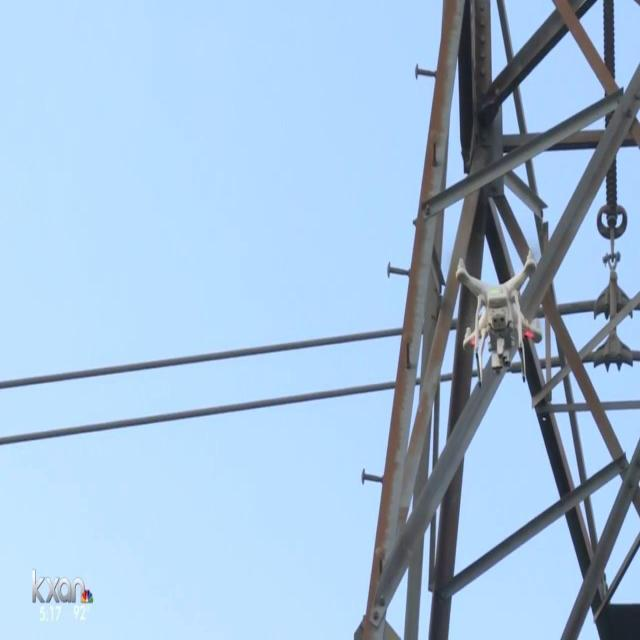drone: (454, 245, 544, 388)
